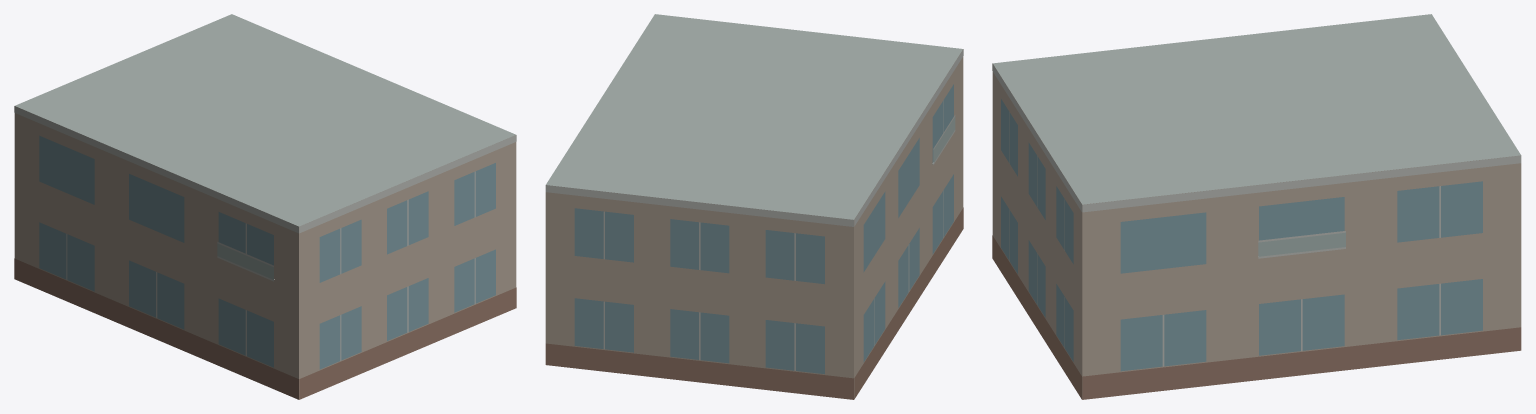
File: survey-upis-32912613.glb
The picture shows the model from 3 angles, left to right: view 1: azimuth 30°, elevation 25°; view 2: azimuth 150°, elevation 25°; view 3: azimuth 270°, elevation 25°; orthographic projection. The views are drawn at different scales.
Parts seen in each view (by area): view 1: survey-upis-32912613.tmp; view 2: survey-upis-32912613.tmp; view 3: survey-upis-32912613.tmp.
Part boxes in pixels (bbox=[...]): survey-upis-32912613.tmp: bbox=[14, 14, 516, 399]; survey-upis-32912613.tmp: bbox=[545, 14, 963, 399]; survey-upis-32912613.tmp: bbox=[992, 14, 1521, 399].
Size of the model in its own units: 12.79 by 6.1 by 14.98.
